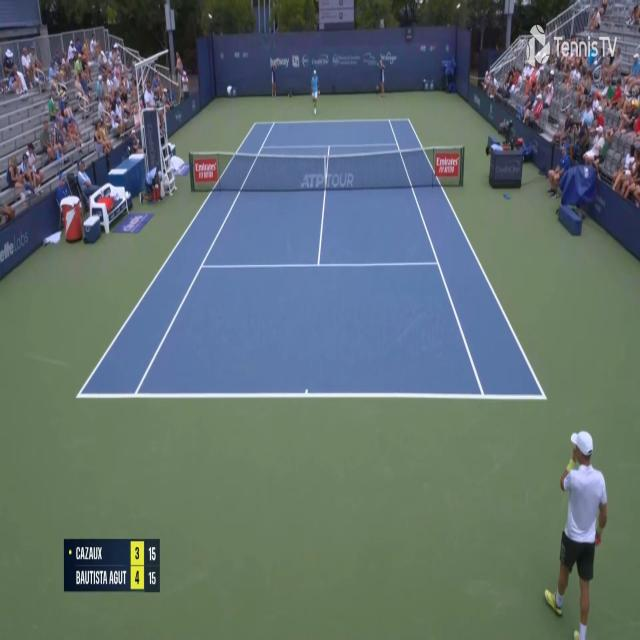tennis-player: (541, 424, 612, 640), (310, 67, 321, 116)
